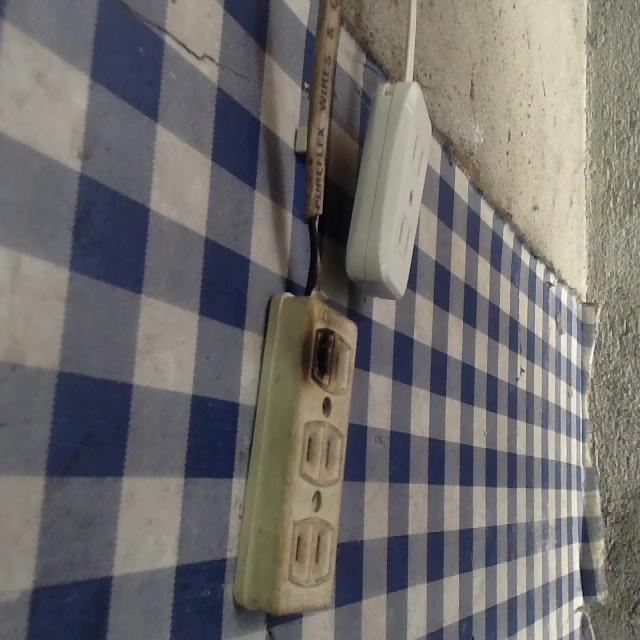-: (305, 309, 342, 399)
